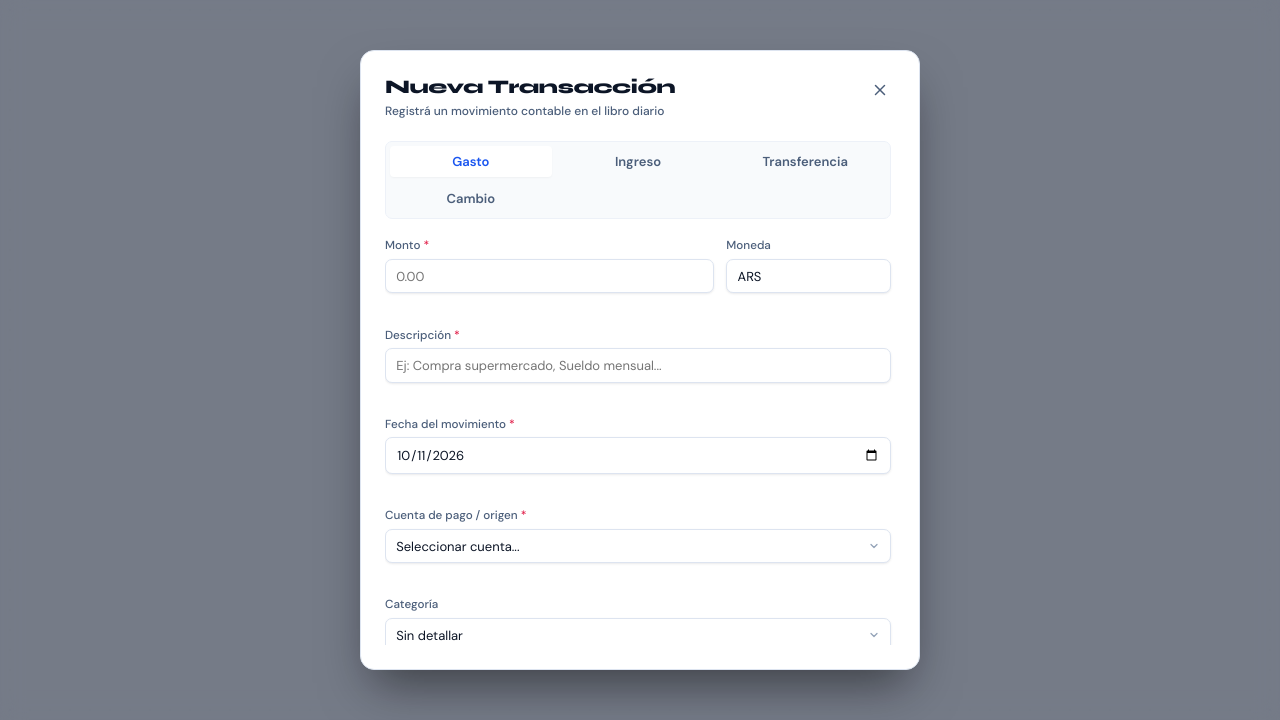
TransactionFormModal - Reparto previsto › con la vista previa inyectada muestra el bloque «Reparto previsto» con nombre, porcentaje, monto y «te debe a»
This screenshot has width=1280, height=720.
In the number field labelled "Monto *": (550,276) [385,259,714,294], type "100.01"
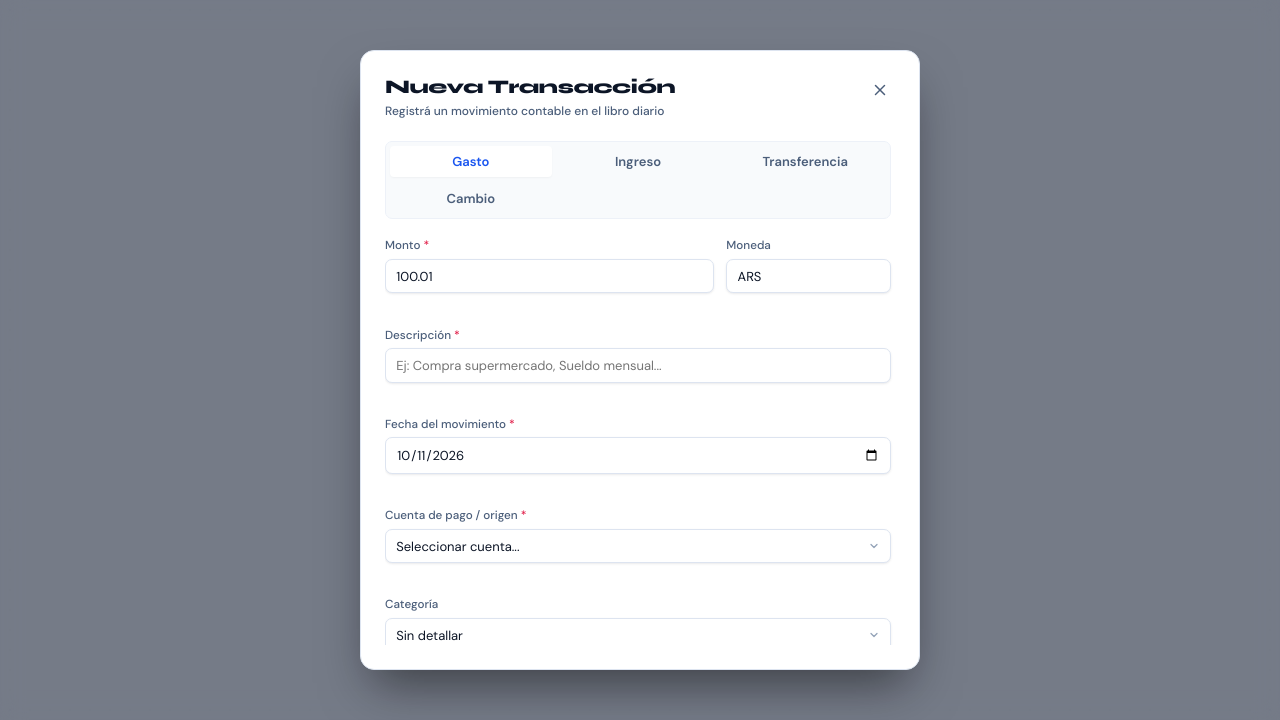
Select "Caja (asset)" in the dropdown labelled "Cuenta de pago / origen *": (638,546) [385,529,891,563]
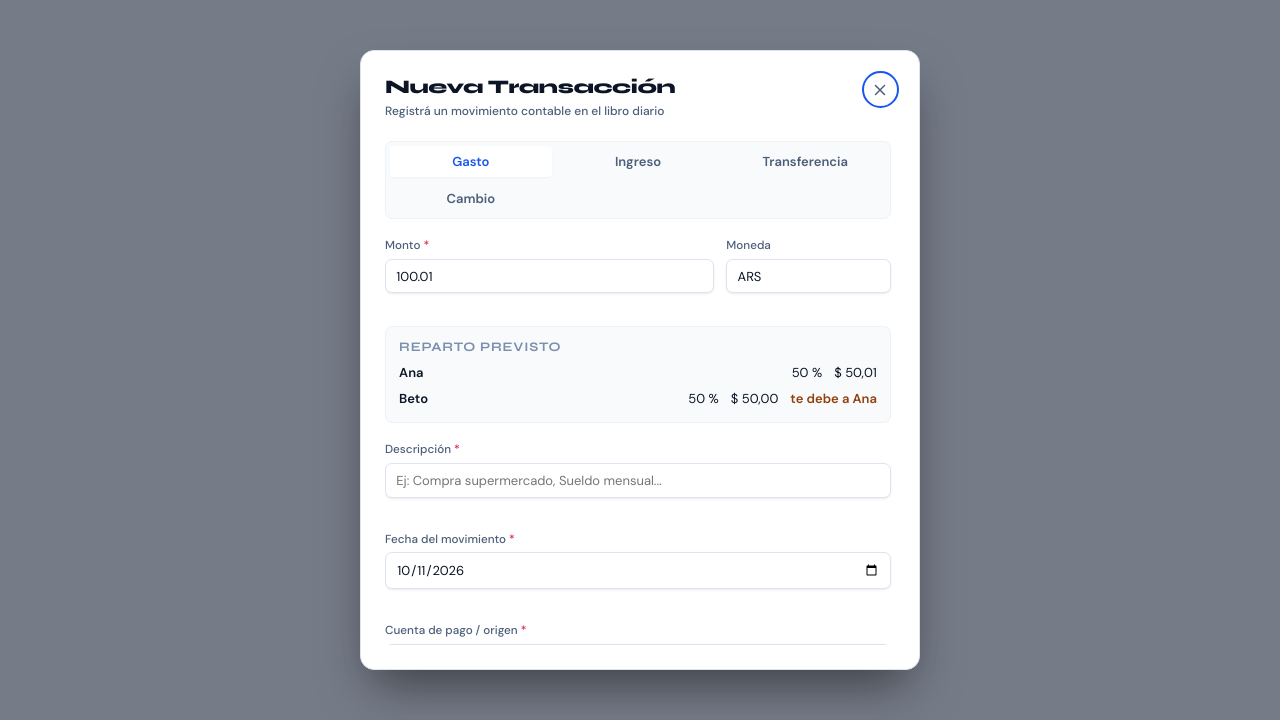
Check: the heading "Reparto previsto" is shown, box [399,339,561,355]
Check: the text "Beto" is shown, box [399,390,428,407]
Check: the text "50 %" is shown 2 times, box [792,363,822,383]; [688,389,719,409]
